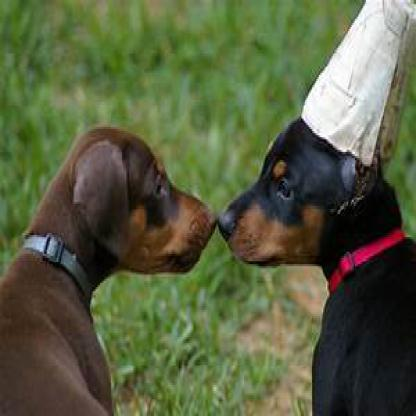dog: (0, 125, 219, 414), (218, 116, 414, 414)
